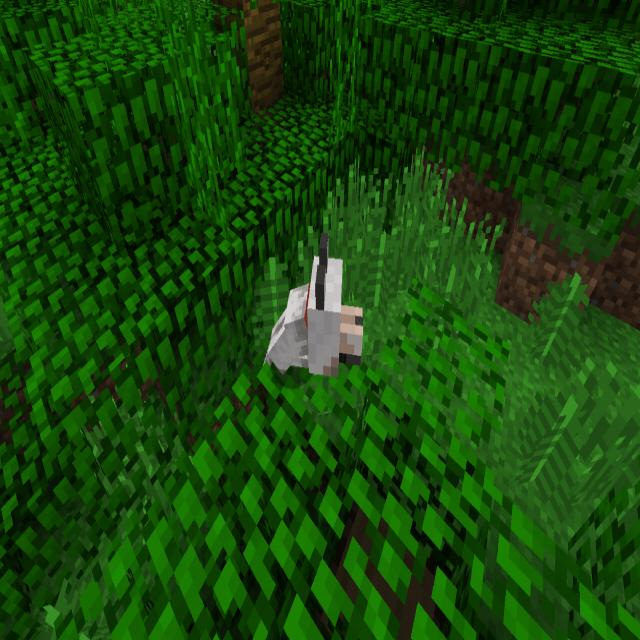Wolf: (263, 233, 364, 371)
